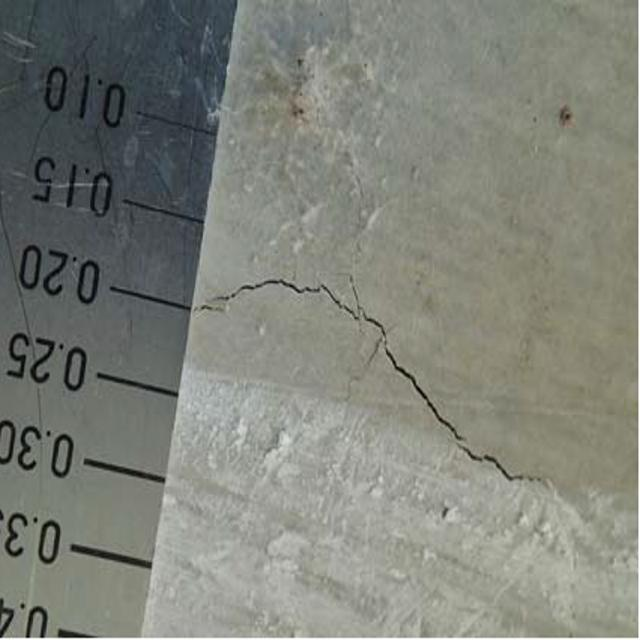crack: (194, 271, 557, 513)
